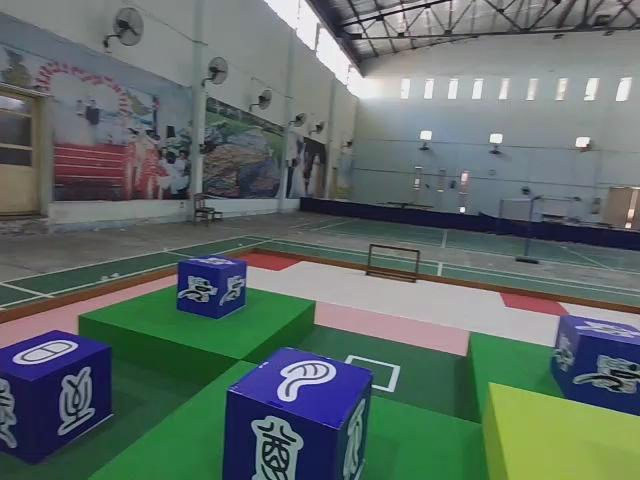R1 Blue: (551, 314, 638, 421), (176, 255, 247, 320)
R2 Fake Blue: (225, 347, 374, 480), (0, 330, 114, 466)
